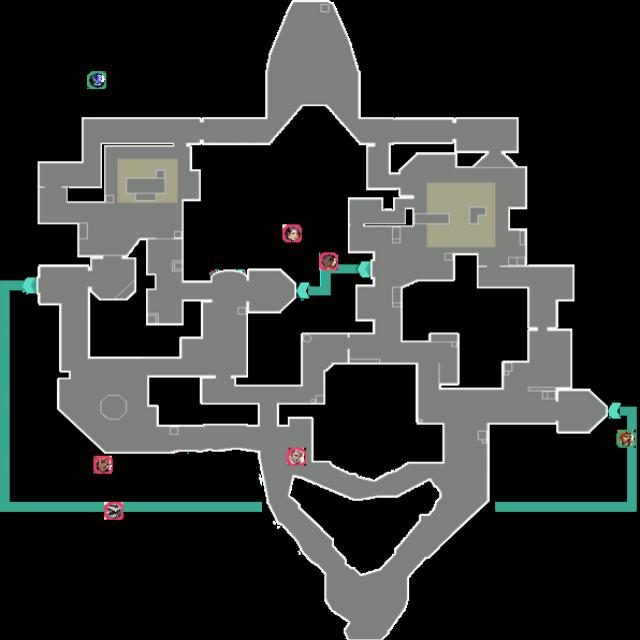atk_cypher: (104, 502, 124, 520)
atk_phoenix: (319, 252, 338, 270)
atk_raze: (93, 456, 113, 474)
atk_sage: (282, 225, 302, 242)
atk_sova: (287, 448, 306, 466)
def_brimstone: (616, 430, 636, 448)
def_kayo: (87, 71, 106, 89)
